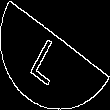L_NE: (33, 25, 77, 85)
